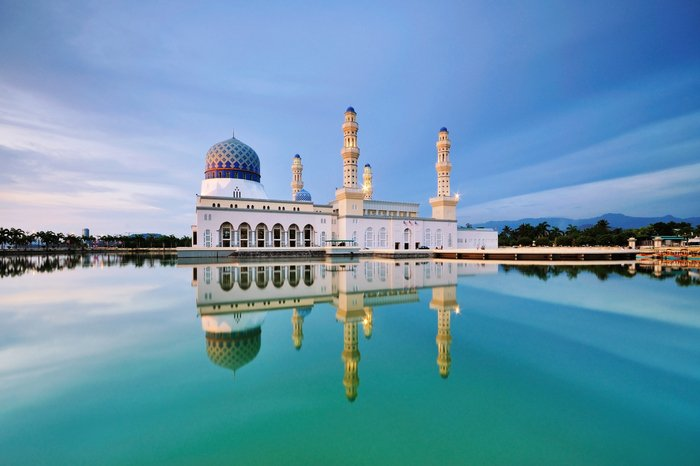Mosque: (188, 94, 491, 272)
